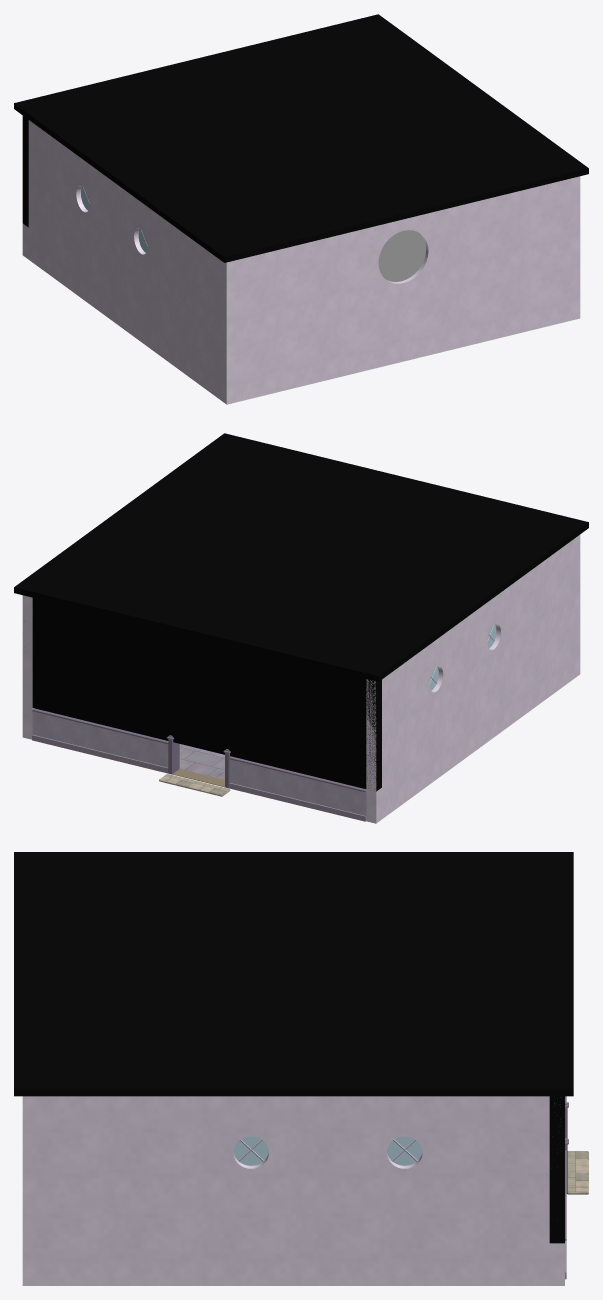
The model's file is oracle.glb.
The picture shows the model from 3 angles, top to bottom: view 1: azimuth 30°, elevation 25°; view 2: azimuth 150°, elevation 25°; view 3: azimuth 270°, elevation 25°; orthographic projection. The views are drawn at different scales.
Parts seen in each view (by area): view 1: oracle_caster, oracle_shell, oracle_rose; view 2: oracle_caster, oracle_shell; view 3: oracle_caster, oracle_shell, oracle_windows.
Part boxes in pixels (bbox=[...]): oracle_caster: bbox=[14, 14, 588, 262]; oracle_shell: bbox=[22, 120, 580, 404]; oracle_rose: bbox=[378, 230, 426, 281]; oracle_caster: bbox=[14, 433, 588, 791]; oracle_shell: bbox=[22, 534, 580, 823]; oracle_caster: bbox=[14, 852, 573, 1243]; oracle_shell: bbox=[22, 1096, 588, 1285]; oracle_windows: bbox=[233, 1136, 422, 1165].
Bounding box in the file's own units: 13.12 × 5.28 × 13.48.
17 materials, 8 textured.
